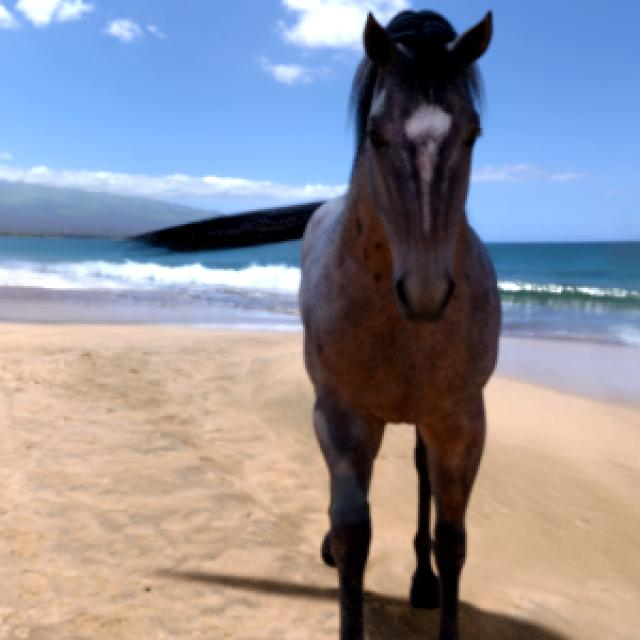horse: (148, 12, 500, 639)
